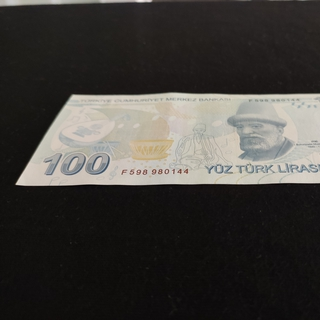100TLBack: (15, 91, 320, 187)
